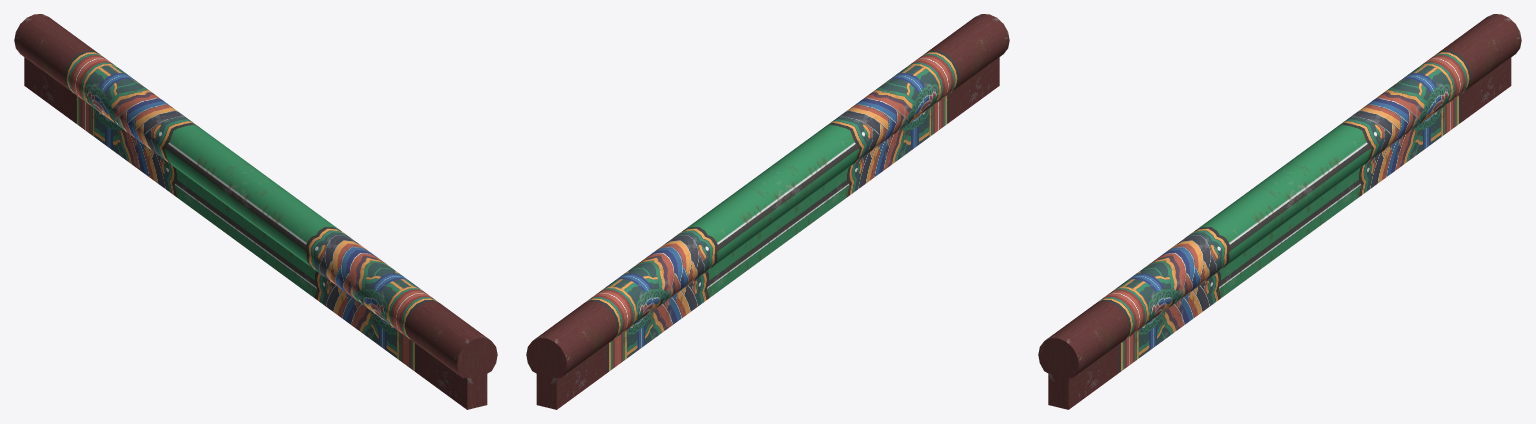
The model's file is SM_Purlin02f.fbx.
The picture shows the model from 3 angles, left to right: view 1: azimuth 30°, elevation 25°; view 2: azimuth 150°, elevation 25°; view 3: azimuth 330°, elevation 25°; orthographic projection.
Parts seen in each view (by area): view 1: SM_Purlin02f; view 2: SM_Purlin02f; view 3: SM_Purlin02f.
Part boxes in pixels (x1,y1,x2,y2): SM_Purlin02f: [14, 14, 497, 409]; SM_Purlin02f: [526, 14, 1009, 409]; SM_Purlin02f: [1038, 14, 1521, 409].
Size of the model in its own units: 20.15 by 380 by 32.73.
1 material, 1 textured.
